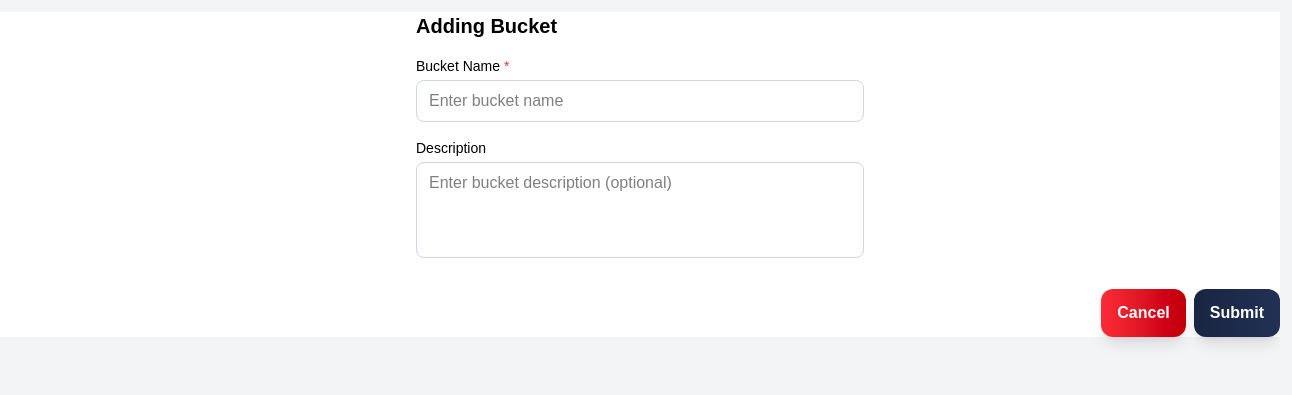
Test: AddEditBucket submit › stays open and shows the error when the API rejects the create
Type "photos" into the field with placeholder "Enter bucket name" at (640, 101), box [416,80,864,122]
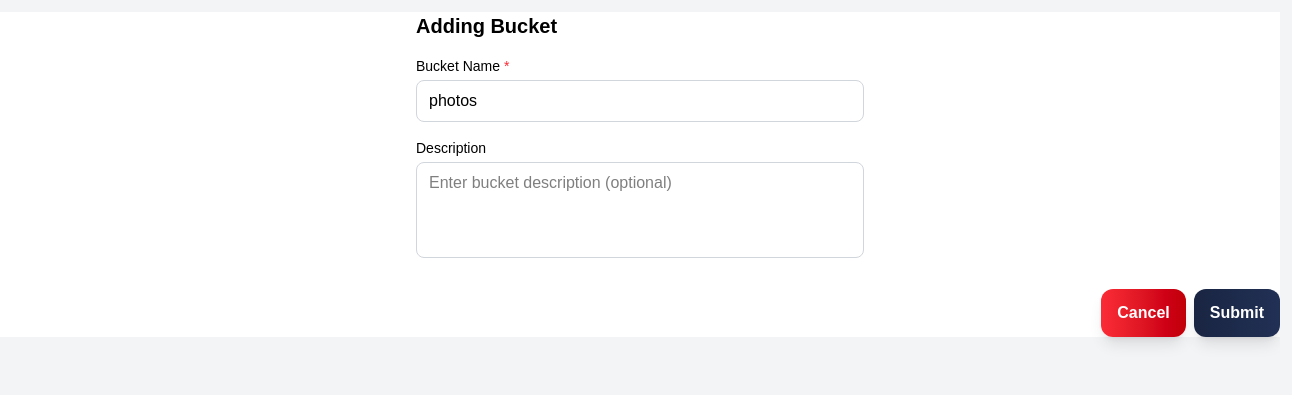
Click the button "Submit" at (1237, 313), box [1194,289,1280,337]
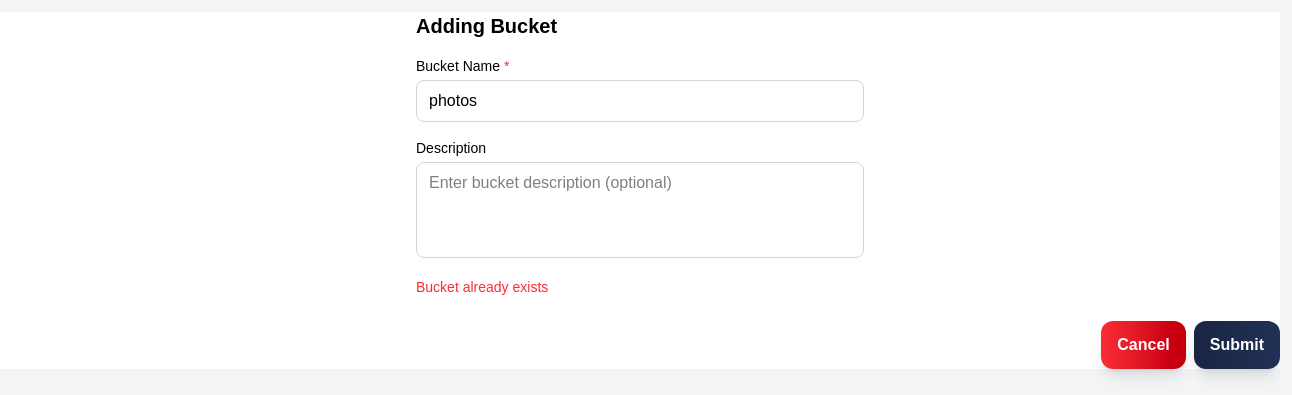
expect the text "Bucket already exists" is shown: met, box [416,279,548,295]
